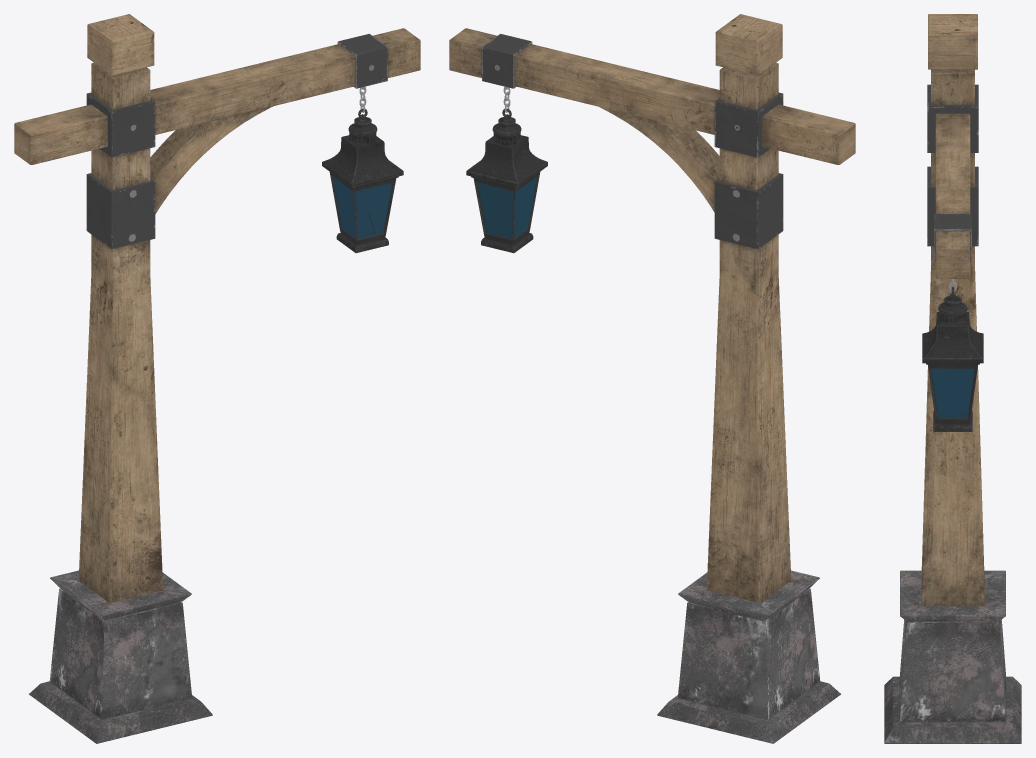
Rendered from lantern.glb.
3 views of the same model, side by side, from view 1: azimuth 30°, elevation 25°; view 2: azimuth 150°, elevation 25°; view 3: azimuth 270°, elevation 25° (orthographic).
Visible parts, largest first — view 1: LanternPole_Body, LanternPole_Lantern; view 2: LanternPole_Body, LanternPole_Lantern; view 3: LanternPole_Body, LanternPole_Lantern.
Part boxes in pixels (box(x1,y1,x2,y2)): LanternPole_Body: box(14, 14, 420, 743); LanternPole_Lantern: box(322, 108, 403, 253); LanternPole_Body: box(449, 14, 855, 743); LanternPole_Lantern: box(466, 108, 547, 253); LanternPole_Body: box(884, 14, 1021, 743); LanternPole_Lantern: box(922, 287, 983, 431).
Bounding box in the file's own units: 15.49 × 25.66 × 4.63.
1 material, 1 textured.
